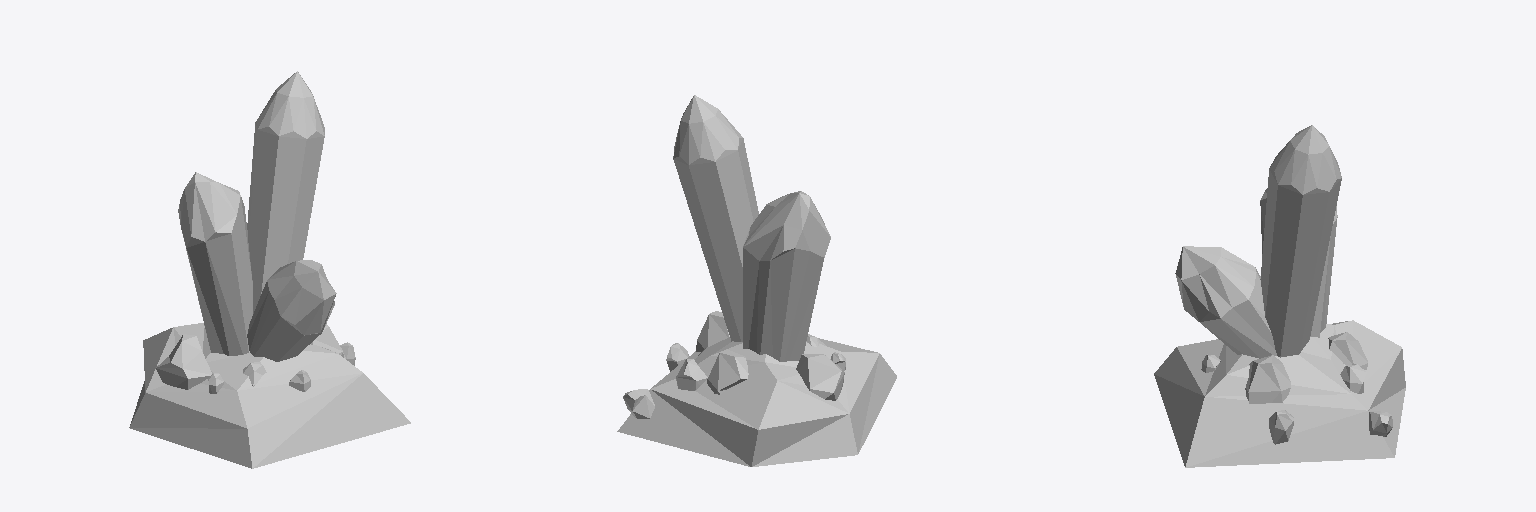
Rendered from crystalSmall-1.obj.
3 renders of one model, left to right at view 1: azimuth 30°, elevation 25°; view 2: azimuth 150°, elevation 25°; view 3: azimuth 270°, elevation 25°, orthographic.
Visible parts, largest first — view 1: Sphere; view 2: Sphere; view 3: Sphere.
Part boxes in pixels (x1,y1,x2,y2): Sphere: (129,71,410,468); Sphere: (617,95,896,466); Sphere: (1154,125,1405,467).
Bounding box in the file's own units: 3.6 × 5.05 × 3.62.